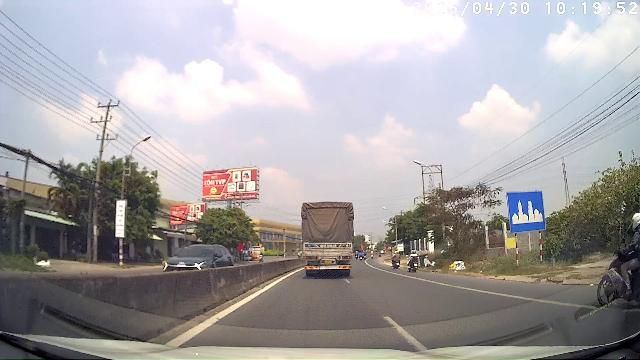420-bat-dau-khu-dong-dan-cu: (508, 190, 546, 230)
